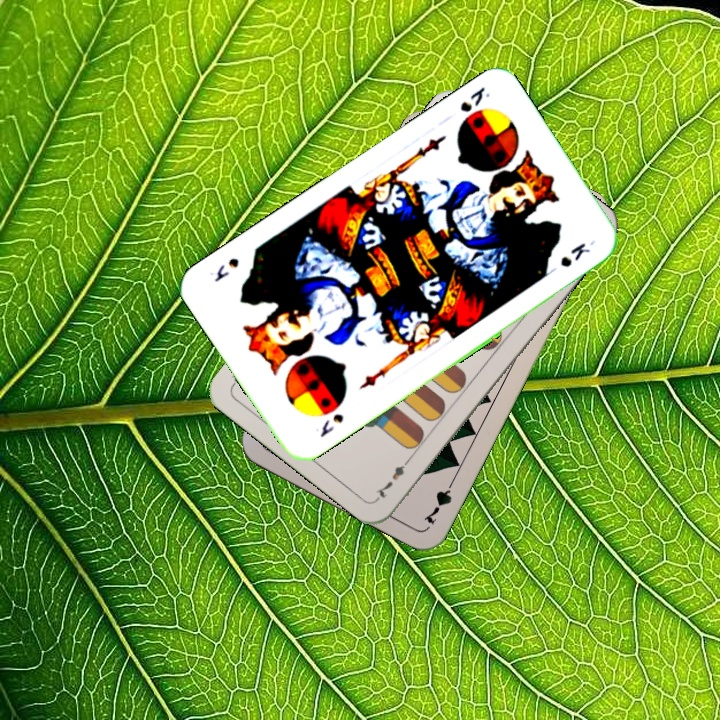E7: (371, 452, 415, 502)
G7: (419, 473, 459, 528)
SK: (455, 82, 493, 115), (311, 409, 347, 440)
